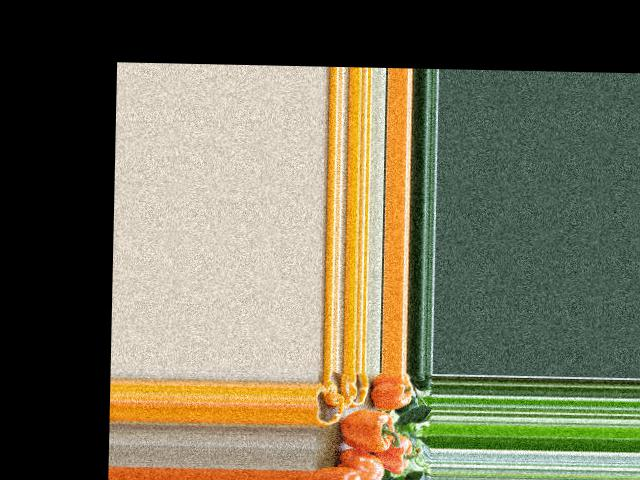bell_pepper: (335, 449, 386, 478)
